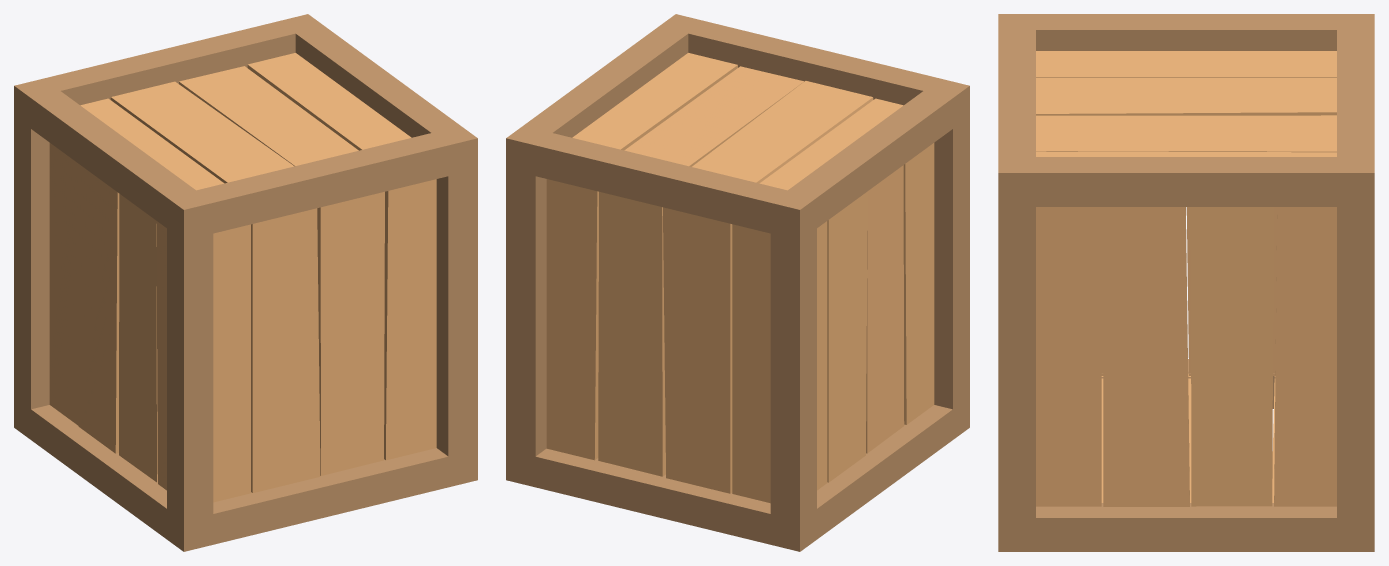
3 views of the same model, side by side, from view 1: azimuth 30°, elevation 25°; view 2: azimuth 150°, elevation 25°; view 3: azimuth 270°, elevation 25° (orthographic). The views are drawn at different scales.
Parts seen in each view (by area): view 1: crates.006; view 2: crates.006; view 3: crates.006.
Boxes of the visible parts, x1,y1,x2,y2 form: crates.006: [14, 14, 477, 551]; crates.006: [506, 14, 969, 551]; crates.006: [998, 14, 1374, 551].
Bounding box in the file's own units: 215 × 239 × 215.
